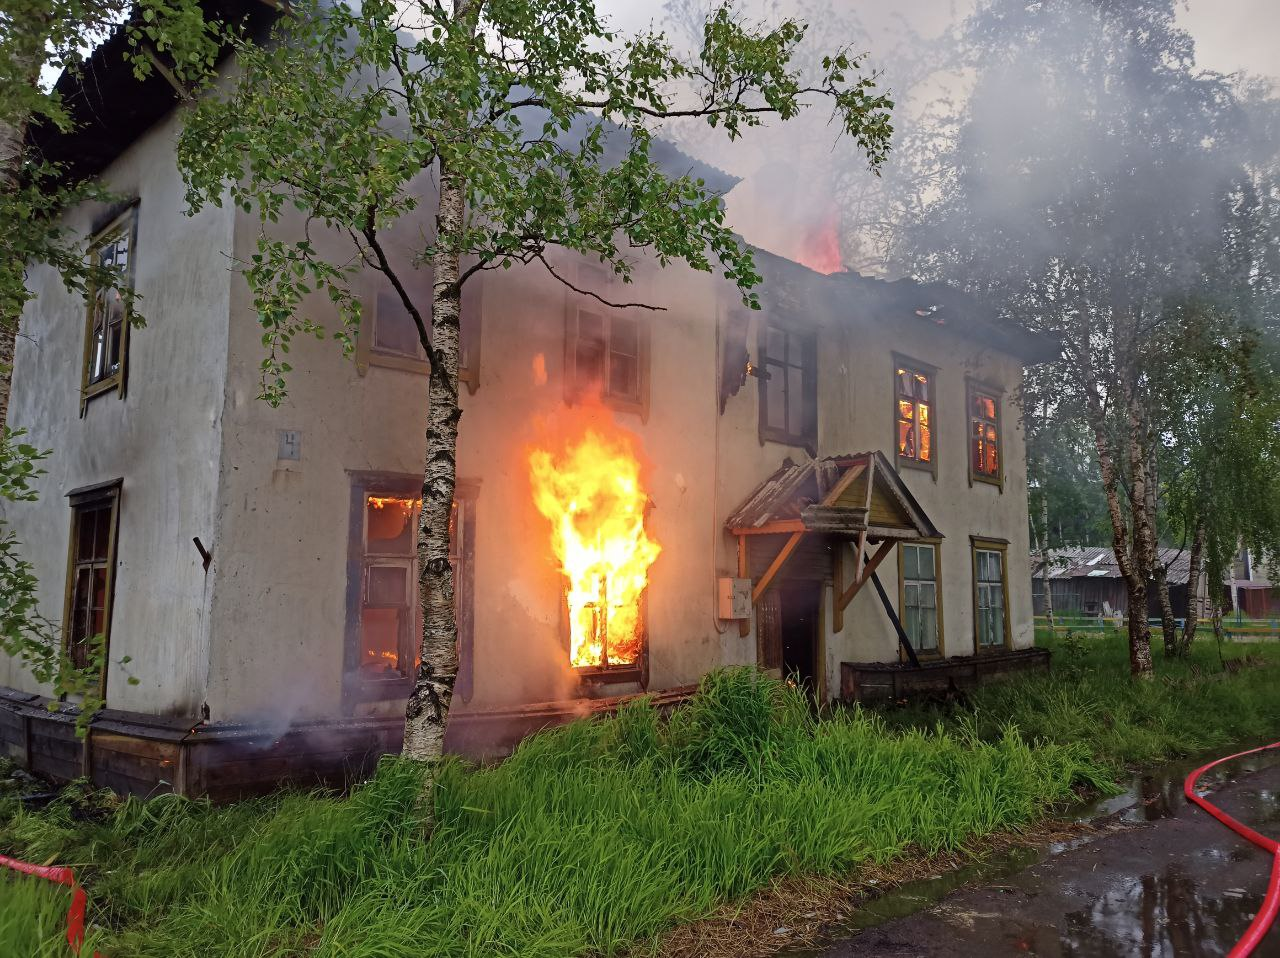fire: (624, 7, 1169, 281), (520, 338, 679, 691)
